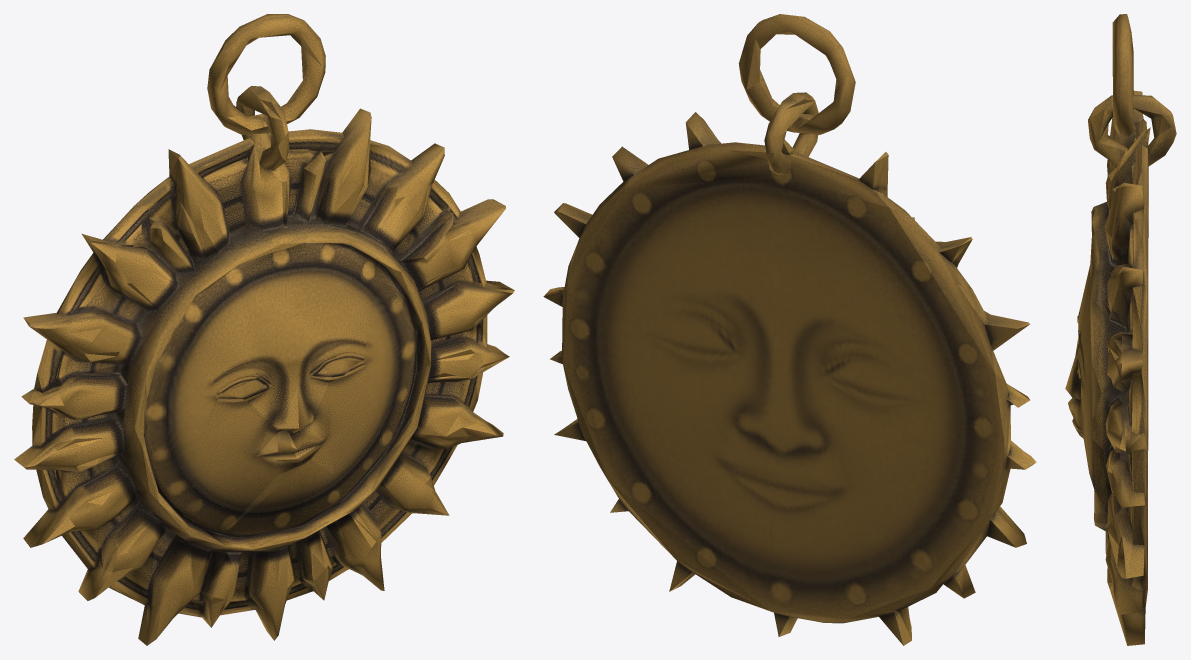
File: modelo.fbx
The picture shows the model from 3 angles, left to right: view 1: azimuth 30°, elevation 25°; view 2: azimuth 150°, elevation 25°; view 3: azimuth 270°, elevation 25°; orthographic projection. The views are drawn at different scales.
Parts seen in each view (by area): view 1: Mesh_0; view 2: Mesh_0; view 3: Mesh_0.
Boxes of the visible parts, x1,y1,x2,y2 form: Mesh_0: [14, 14, 514, 645]; Mesh_0: [543, 14, 1036, 645]; Mesh_0: [1065, 14, 1176, 645].
Size of the model in its own units: 156 by 190 by 32.48.
1 material, 1 textured.
